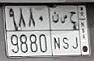0: (38, 15, 48, 54)
8: (27, 8, 38, 53), (18, 6, 28, 54)
9: (8, 7, 19, 54)
J: (69, 11, 80, 51)
N: (51, 11, 61, 50)
S: (60, 14, 69, 49)
